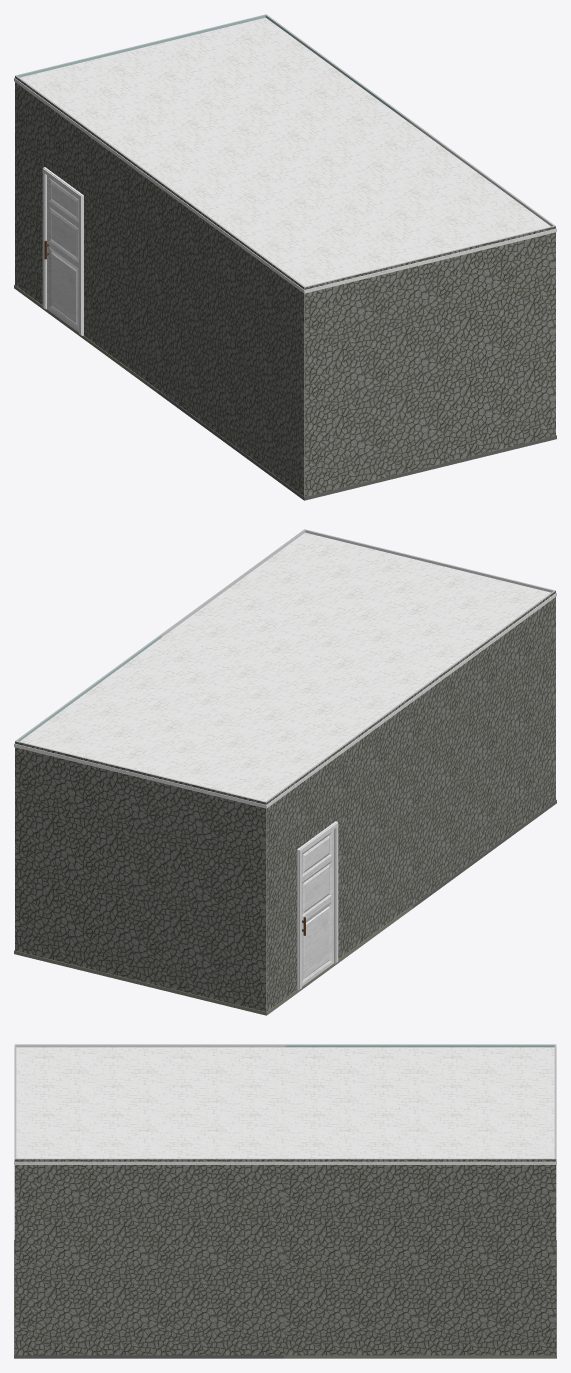
Rendered from ProcTHOR-Train-14.glb.
3 renders of one model, top to bottom at view 1: azimuth 30°, elevation 25°; view 2: azimuth 150°, elevation 25°; view 3: azimuth 270°, elevation 25°, orthographic. The views are drawn at different scales.
Parts seen in each view (by area): view 1: WallInside#wall|exterior|0.00|7.84|3.92|7.84, Ceiling#room|3|c, Ceiling#room|2|c, WallInside#wall|exterior|3.92|3.92|3.92|7.84, WallInside#wall|exterior|3.92|0.00|3.92|3.92, Doorway_8, Floor#room|3|f, WallInside#wall|2|0.00|0.00|3.92|0.00, Floor#room|2|f; view 2: WallInside#wall|exterior|0.00|0.00|3.92|0.00, Ceiling#room|2|c, Ceiling#room|3|c, WallInside#wall|exterior|3.92|3.92|3.92|7.84, WallInside#wall|exterior|3.92|0.00|3.92|3.92, Doorway_8, Floor#room|2|f, WallInside#wall|3|0.00|7.84|3.92|7.84, Floor#room|3|f; view 3: WallInside#wall|exterior|0.00|0.00|0.00|3.92, WallInside#wall|exterior|0.00|3.92|0.00|7.84, Ceiling#room|2|c, Ceiling#room|3|c, Floor#room|2|f, Floor#room|3|f, WallInside#wall|3|3.92|3.92|3.92|7.84, WallInside#wall|2|3.92|0.00|3.92|3.92.
Part boxes in pixels (x1=…): WallInside#wall|exterior|0.00|7.84|3.92|7.84: x1=304, y1=226, x2=555, y2=496; Ceiling#room|3|c: x1=158, y1=123, x2=556, y2=293; Ceiling#room|2|c: x1=14, y1=17, x2=409, y2=186; WallInside#wall|exterior|3.92|3.92|3.92|7.84: x1=159, y1=181, x2=304, y2=496; WallInside#wall|exterior|3.92|0.00|3.92|3.92: x1=15, y1=75, x2=159, y2=390; Doorway_8: x1=42, y1=167, x2=83, y2=335; Floor#room|3|f: x1=158, y1=390, x2=556, y2=500; WallInside#wall|2|0.00|0.00|3.92|0.00: x1=17, y1=14, x2=266, y2=77; Floor#room|2|f: x1=14, y1=284, x2=158, y2=393; WallInside#wall|exterior|0.00|0.00|3.92|0.00: x1=15, y1=741, x2=266, y2=1011; Ceiling#room|2|c: x1=14, y1=637, x2=412, y2=808; Ceiling#room|3|c: x1=162, y1=532, x2=556, y2=701; WallInside#wall|exterior|3.92|3.92|3.92|7.84: x1=411, y1=590, x2=555, y2=905; WallInside#wall|exterior|3.92|0.00|3.92|3.92: x1=266, y1=696, x2=411, y2=1011; Doorway_8: x1=297, y1=821, x2=338, y2=989; Floor#room|2|f: x1=14, y1=905, x2=412, y2=1015; WallInside#wall|3|0.00|7.84|3.92|7.84: x1=305, y1=530, x2=553, y2=592; Floor#room|3|f: x1=412, y1=799, x2=556, y2=908; WallInside#wall|exterior|0.00|0.00|0.00|3.92: x1=285, y1=1159, x2=556, y2=1355; WallInside#wall|exterior|0.00|3.92|0.00|7.84: x1=14, y1=1159, x2=286, y2=1355; Ceiling#room|2|c: x1=284, y1=1046, x2=556, y2=1164; Ceiling#room|3|c: x1=14, y1=1046, x2=286, y2=1164; Floor#room|2|f: x1=284, y1=1240, x2=556, y2=1358; Floor#room|3|f: x1=14, y1=1240, x2=285, y2=1358; WallInside#wall|3|3.92|3.92|3.92|7.84: x1=16, y1=1045, x2=286, y2=1047; WallInside#wall|2|3.92|0.00|3.92|3.92: x1=285, y1=1045, x2=554, y2=1047.
Size of what is drawn, in the model's own units: 4.02 by 3.18 by 7.88.
124 materials, 49 textured.
